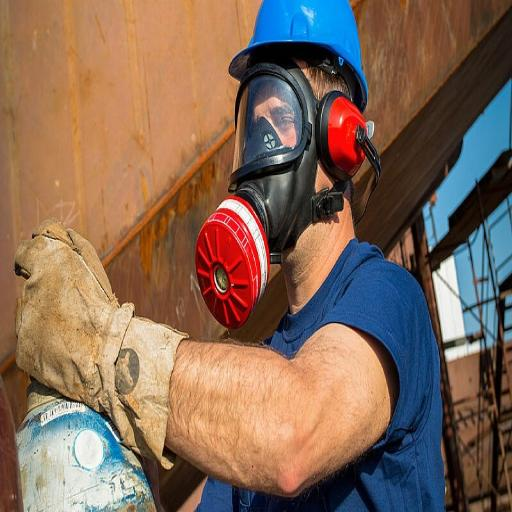mask: (190, 59, 321, 325)
